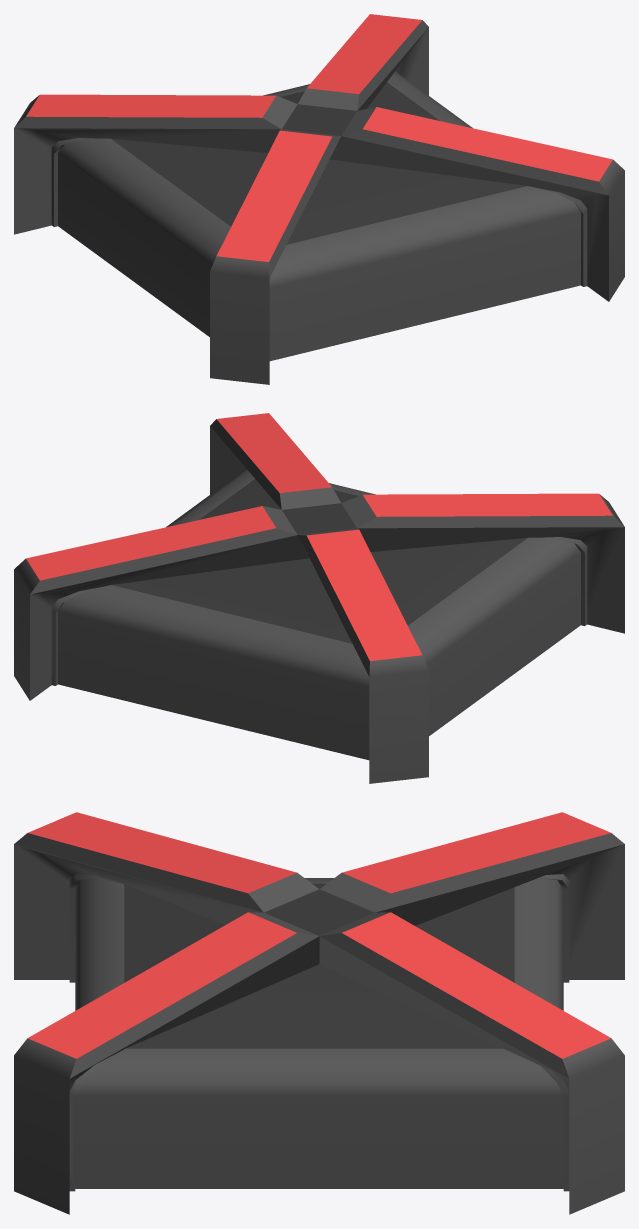
File: Blocker_2x2.fbx
The picture shows the model from 3 angles, top to bottom: view 1: azimuth 30°, elevation 25°; view 2: azimuth 150°, elevation 25°; view 3: azimuth 270°, elevation 25°; orthographic projection. The views are drawn at different scales.
Visible parts, largest first — view 1: x1_Blocker; view 2: x1_Blocker; view 3: x1_Blocker.
Boxes of the visible parts, <box> form: x1_Blocker: <box>14,14,624,384</box>; x1_Blocker: <box>14,413,624,783</box>; x1_Blocker: <box>14,812,624,1214</box>.
Size of the model in its own units: 1.56 by 0.5139 by 1.56.
